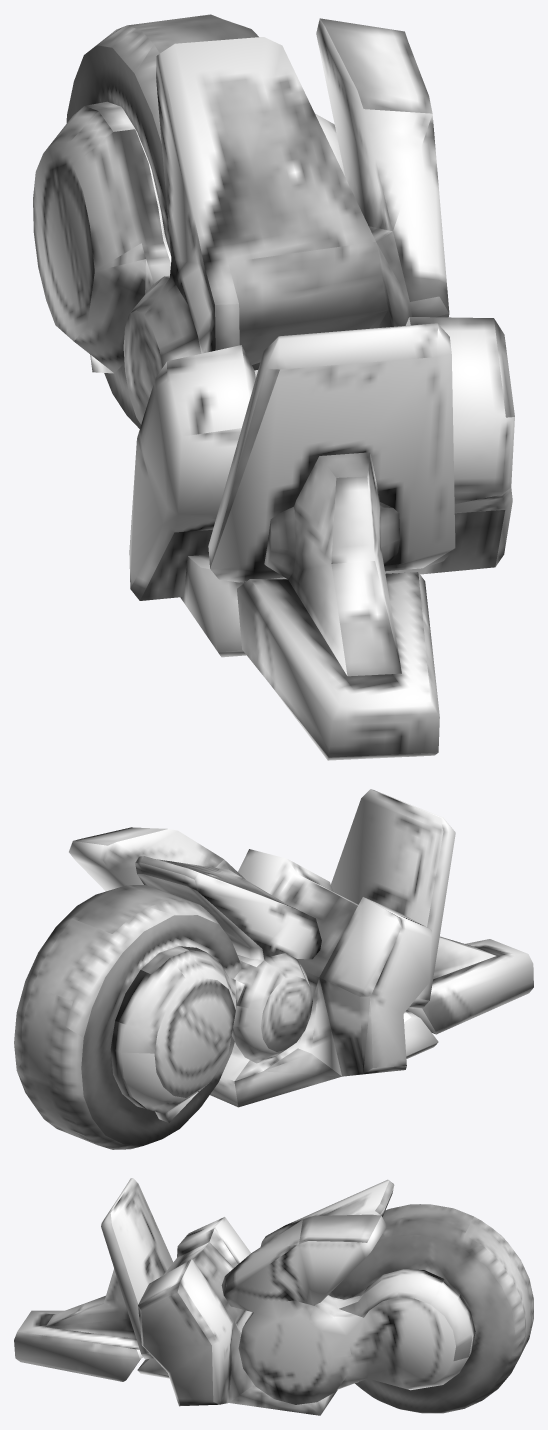
Rendered from r_foot.glb.
3 views of the same model, one above another, from view 1: azimuth 30°, elevation 25°; view 2: azimuth 150°, elevation 25°; view 3: azimuth 270°, elevation 25° (orthographic). The views are drawn at different scales.
Parts seen in each view (by area): view 1: r_foot; view 2: r_foot; view 3: r_foot.
Boxes of the visible parts, x1,y1,x2,y2 form: r_foot: (33,14,514,760); r_foot: (14,789,533,1149); r_foot: (14,1178,533,1415).
Size of the model in its own units: 0.6182 by 0.598 by 1.35.
3 materials, 3 textured.
